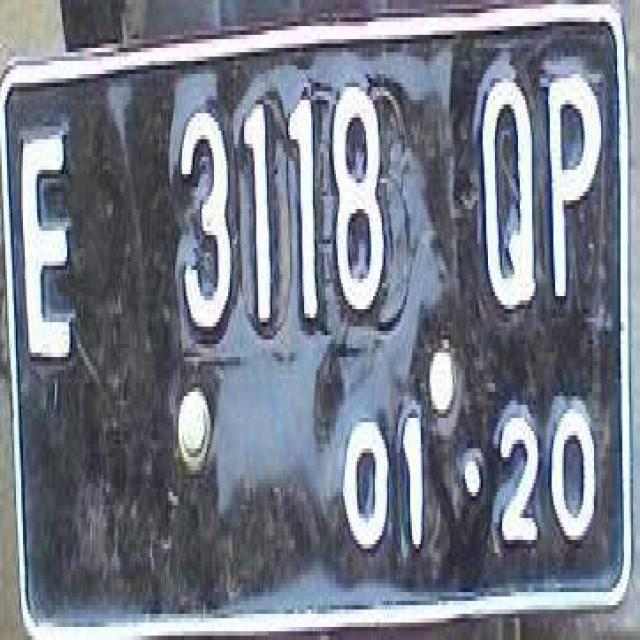1: (238, 98, 280, 333), (286, 91, 322, 326)
3: (180, 109, 234, 344)
8: (328, 80, 388, 324)
E: (19, 126, 76, 370)
P: (543, 65, 603, 318)
Q: (478, 72, 540, 324)
